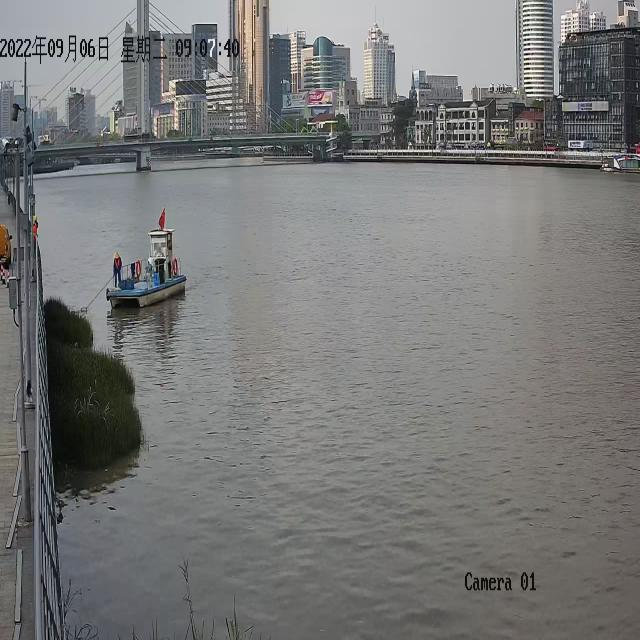ship: (105, 206, 186, 306)
